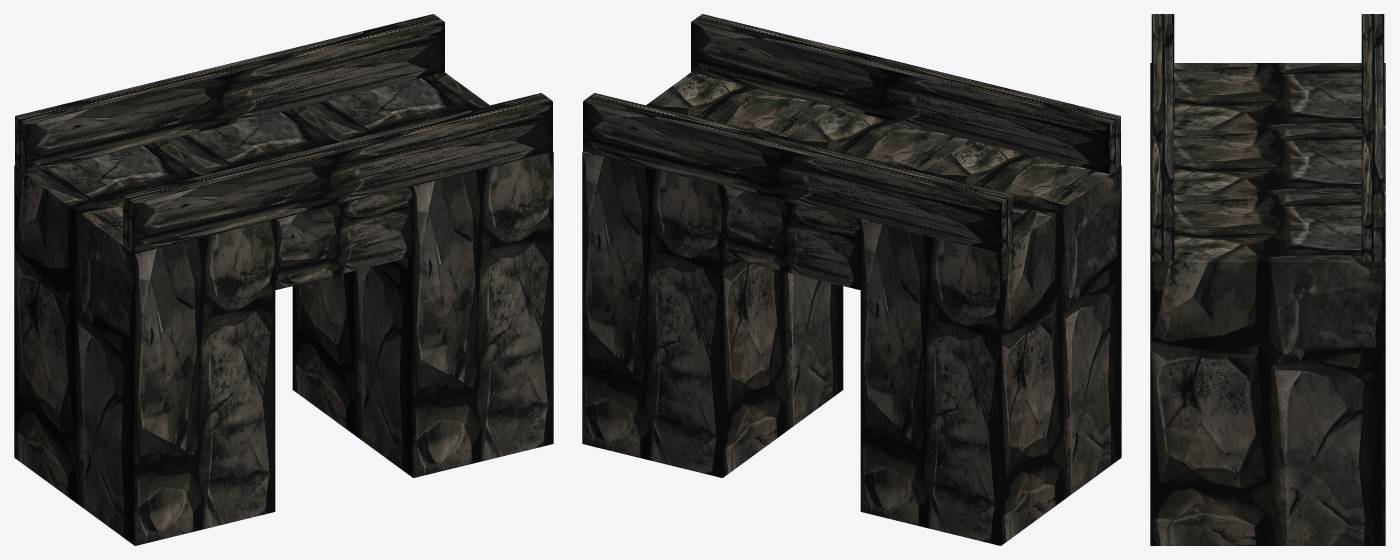
Rendered from fortress_gatehouse_LOD2.glb.
3 views of the same model, side by side, from view 1: azimuth 30°, elevation 25°; view 2: azimuth 150°, elevation 25°; view 3: azimuth 270°, elevation 25° (orthographic). The views are drawn at different scales.
Parts seen in each view (by area): view 1: LOD_Left.001, LOD_Right.001, LOD_Parapet.002, LOD_Parapet.003, LOD_Upper.001; view 2: LOD_Left.001, LOD_Right.001, LOD_Parapet.003, LOD_Parapet.002, LOD_Upper.001; view 3: LOD_Right.001, LOD_Left.001, LOD_Upper.001, LOD_Parapet.002, LOD_Parapet.003.
Boxes of the visible parts, left/top/right/bottom form: LOD_Left.001: left=14, top=140, right=275, bottom=545; LOD_Right.001: left=292, top=72, right=553, bottom=477; LOD_Parapet.002: left=123, top=93, right=552, bottom=252; LOD_Parapet.003: left=15, top=14, right=444, bottom=173; LOD_Upper.001: left=167, top=106, right=412, bottom=289; LOD_Left.001: left=860, top=140, right=1121, bottom=545; LOD_Right.001: left=582, top=72, right=843, bottom=477; LOD_Parapet.003: left=583, top=93, right=1012, bottom=252; LOD_Parapet.002: left=691, top=14, right=1120, bottom=173; LOD_Upper.001: left=723, top=106, right=968, bottom=289; LOD_Right.001: left=1150, top=195, right=1385, bottom=545; LOD_Left.001: left=1150, top=63, right=1385, bottom=129; LOD_Upper.001: left=1150, top=129, right=1385, bottom=194; LOD_Parapet.002: left=1151, top=14, right=1174, bottom=261; LOD_Parapet.003: left=1361, top=14, right=1384, bottom=261.
Size of the model in its own units: 9.6 by 7.5 by 4.8.
1 material, 1 textured.
